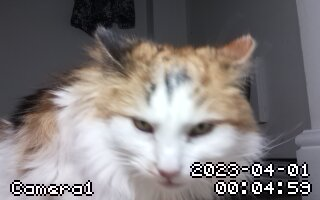clara: (9, 23, 269, 200)
